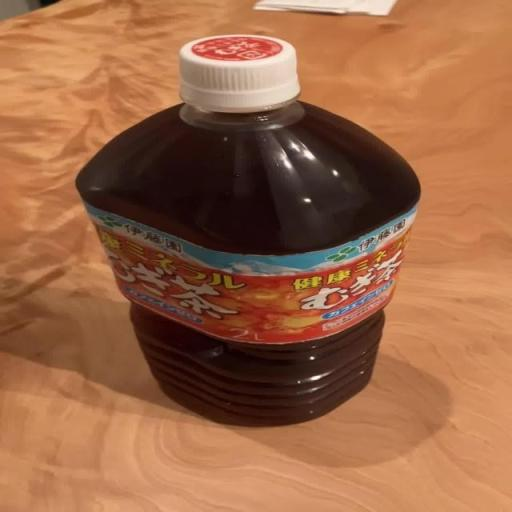plastic: (75, 34, 422, 428)
